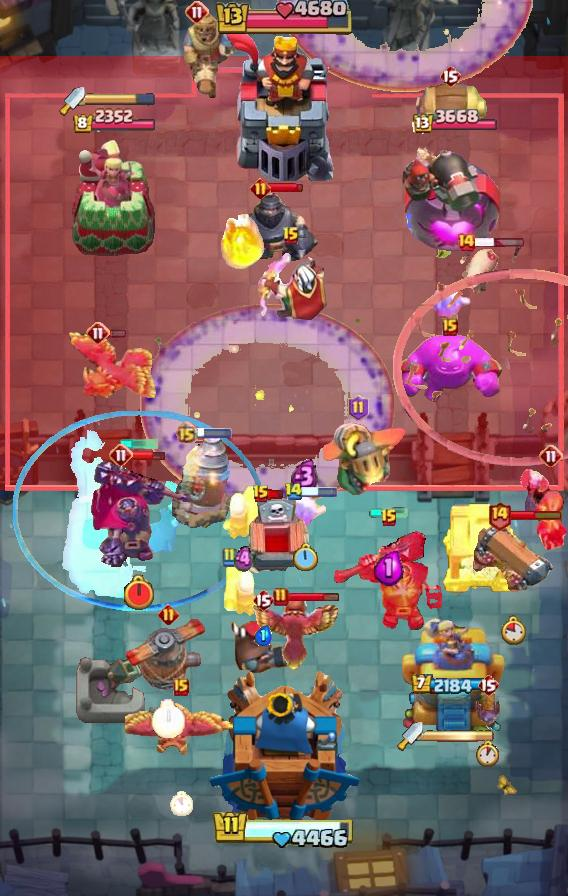bar: (402, 615, 507, 731), (70, 138, 158, 256)
barbarian-barrel: (473, 698, 503, 724)
battle-healer: (473, 520, 555, 604)
bomb: (440, 500, 520, 594)
clock: (212, 809, 356, 851), (213, 0, 355, 38)
clone: (395, 332, 505, 406)
dark-prince: (119, 614, 217, 696)
electro-spirit: (374, 550, 404, 587), (291, 457, 319, 495), (234, 546, 253, 574), (254, 625, 272, 646)
elixir: (151, 698, 185, 737), (122, 574, 156, 612), (292, 543, 318, 573), (501, 615, 527, 645), (475, 740, 501, 768), (171, 791, 194, 816)
elixir-golem-mid: (242, 496, 312, 582)
emote: (509, 509, 563, 521), (288, 593, 341, 604), (473, 236, 525, 247), (130, 450, 166, 463), (268, 182, 304, 194), (195, 428, 233, 438), (300, 487, 338, 497), (108, 329, 127, 340), (267, 488, 284, 499)
giant: (456, 246, 502, 298)
golden-knight: (248, 597, 340, 673)
ice-spirit: (369, 507, 409, 519), (119, 439, 159, 449)
inferno-tower: (86, 457, 192, 567), (332, 530, 446, 630)
king-tower: (207, 669, 361, 826), (223, 31, 345, 181)
king-tower-bar: (423, 729, 495, 743), (85, 93, 155, 107)
magic-archer: (172, 437, 232, 529)
mirror: (423, 284, 473, 322), (280, 492, 330, 530)
mother-witch: (125, 701, 237, 771), (66, 330, 160, 404)
night-witch: (307, 422, 409, 498)
pad_0: (12, 411, 266, 613)
phoenix-small: (228, 613, 298, 675)
ram-rider: (181, 5, 241, 101)
rascal-boy: (518, 468, 568, 554)
rocket: (140, 303, 396, 507), (277, 0, 533, 92)
royal-guardian: (224, 184, 322, 270)
selected: (411, 109, 498, 136), (71, 109, 156, 136), (410, 674, 496, 696)
skeleton-barrel: (392, 244, 567, 467)
skeleton-king: (254, 250, 328, 324)
text: (488, 501, 513, 532), (185, 0, 209, 24), (86, 321, 110, 345), (109, 443, 133, 467), (539, 444, 563, 468), (175, 420, 198, 444), (348, 395, 369, 421), (439, 64, 461, 88), (252, 588, 274, 612), (477, 673, 499, 697), (158, 603, 179, 625), (249, 177, 270, 198), (456, 232, 476, 252), (282, 226, 300, 246), (252, 484, 270, 504), (380, 508, 398, 528), (285, 483, 304, 501), (221, 547, 237, 567), (273, 587, 289, 607), (442, 318, 458, 336), (173, 678, 189, 696)
the-log: (412, 84, 488, 134)
tombstone: (220, 483, 262, 541), (222, 560, 264, 618)
tower-bar: (402, 136, 504, 256)
valkyrie: (216, 206, 266, 272)
